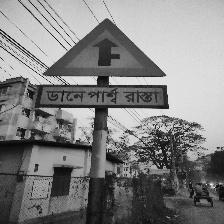Side-road-right: (38, 17, 169, 111)
